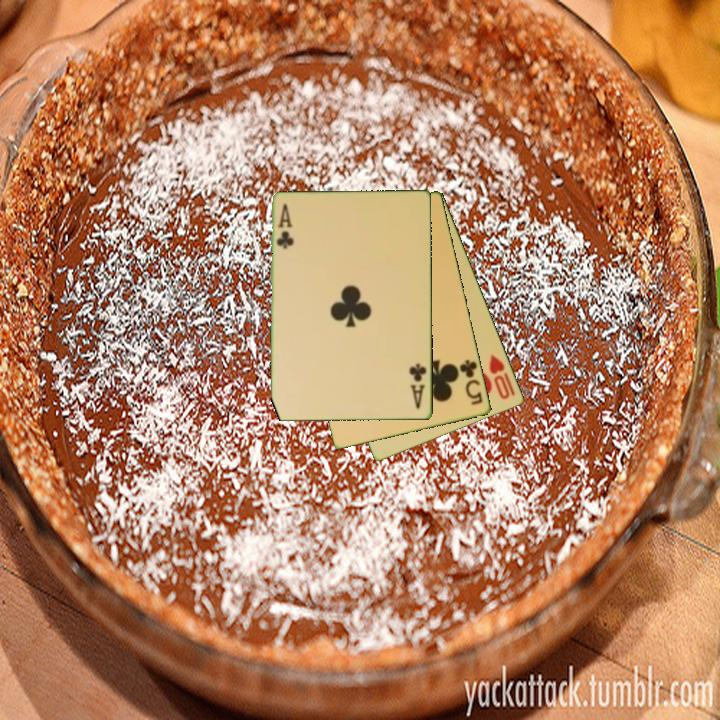10h: (486, 351, 518, 402)
5c: (456, 356, 486, 408)
Ac: (406, 360, 429, 412), (273, 200, 296, 252)
